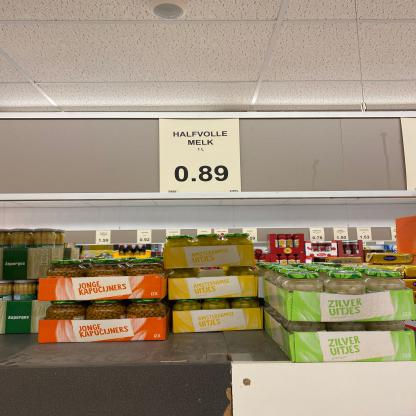prtg: (160, 119, 242, 193)
